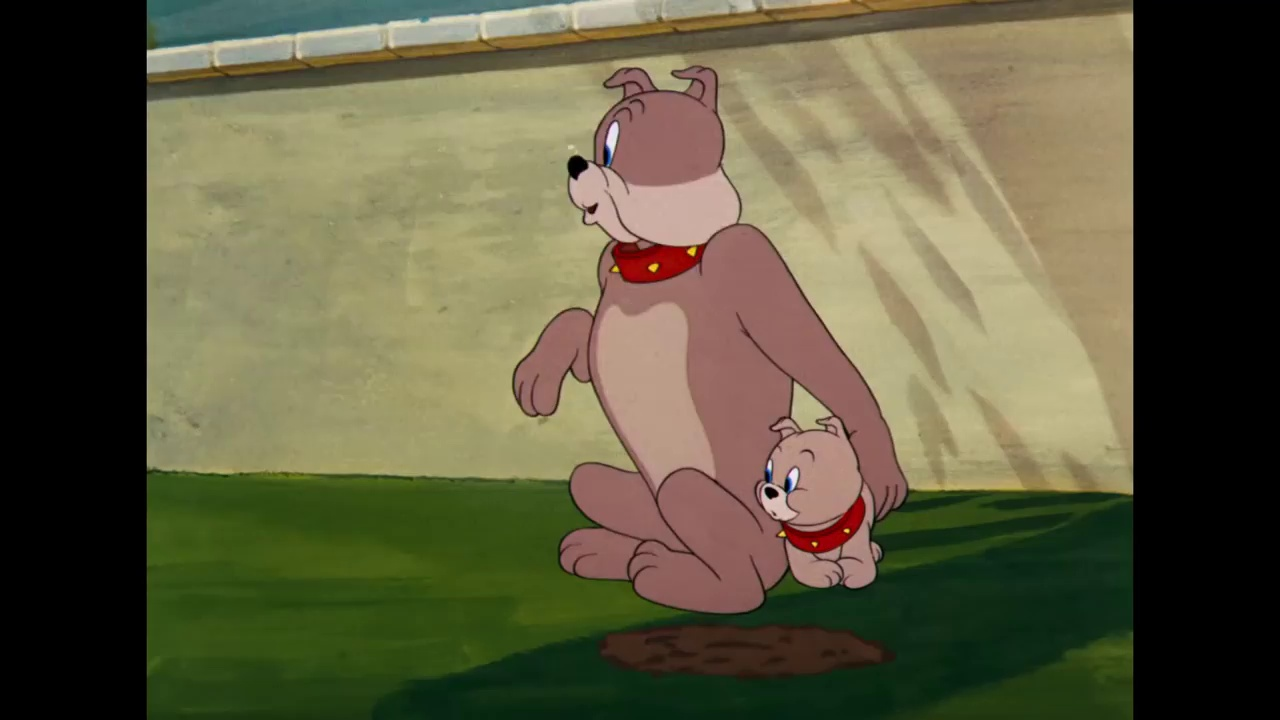spike: (564, 63, 748, 288)
